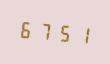five: (54, 20, 71, 45)
one: (72, 21, 89, 46)
seven: (36, 18, 53, 43)
six: (18, 16, 35, 42)
